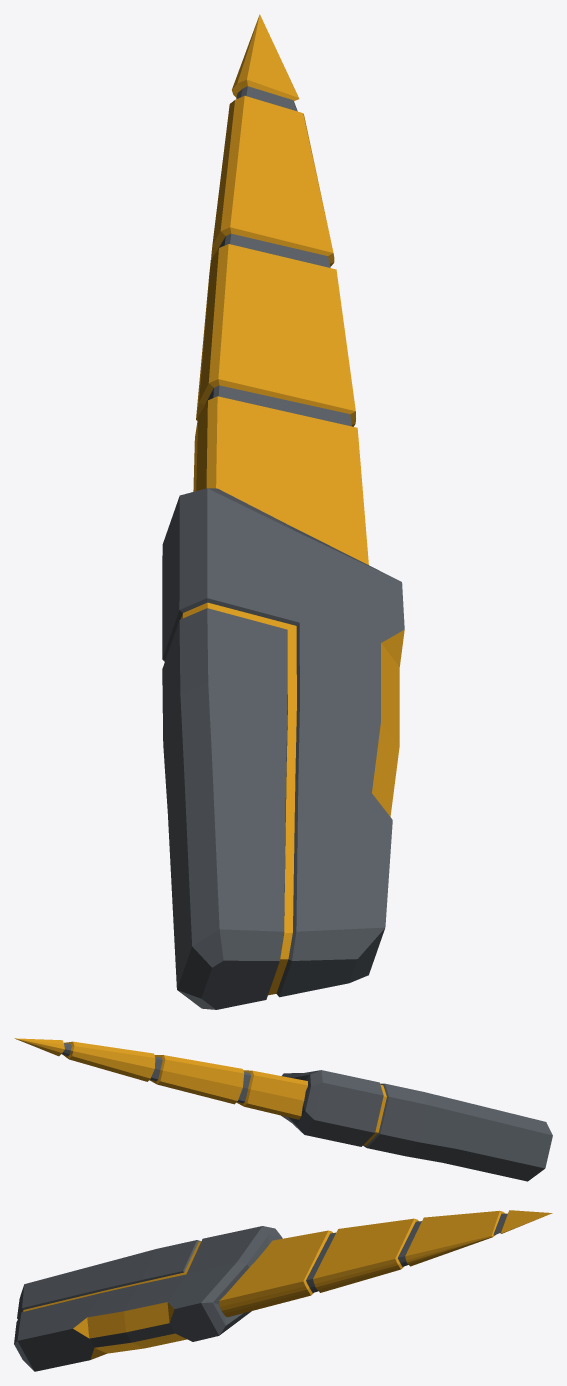
The model's file is Fighter_03_Left_Wing_Yellow.fbx.
The picture shows the model from 3 angles, top to bottom: view 1: azimuth 30°, elevation 25°; view 2: azimuth 150°, elevation 25°; view 3: azimuth 270°, elevation 25°; orthographic projection. The views are drawn at different scales.
Visible parts, largest first — view 1: Fighter_03_Left_Wing_Yellow; view 2: Fighter_03_Left_Wing_Yellow; view 3: Fighter_03_Left_Wing_Yellow.
Part boxes in pixels (box(x1,y1,x2,y2)): Fighter_03_Left_Wing_Yellow: box(162, 14, 404, 1009); Fighter_03_Left_Wing_Yellow: box(14, 1038, 552, 1181); Fighter_03_Left_Wing_Yellow: box(14, 1210, 552, 1371).
Bounding box in the file's own units: 590 × 501 × 932.
Materials: 1 (1 with a texture image).
